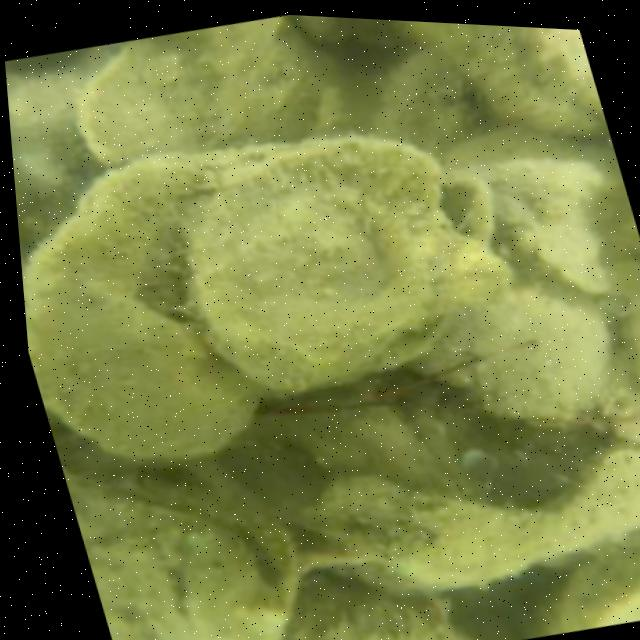Oyster-Closed: (417, 283, 614, 425)
Oyster-Indeterminate: (23, 159, 253, 461), (307, 444, 640, 588), (72, 20, 369, 163), (64, 467, 285, 640), (445, 128, 640, 292), (407, 21, 608, 136), (289, 576, 475, 640), (535, 532, 640, 637), (382, 47, 480, 153)
Oyster-Open: (190, 140, 513, 395)
